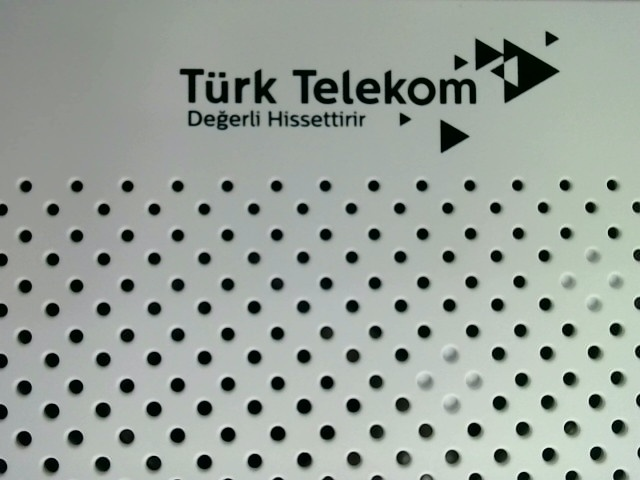AQ_TURKTelekom: (177, 21, 563, 156)
